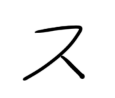su: (18, 23, 89, 84)
